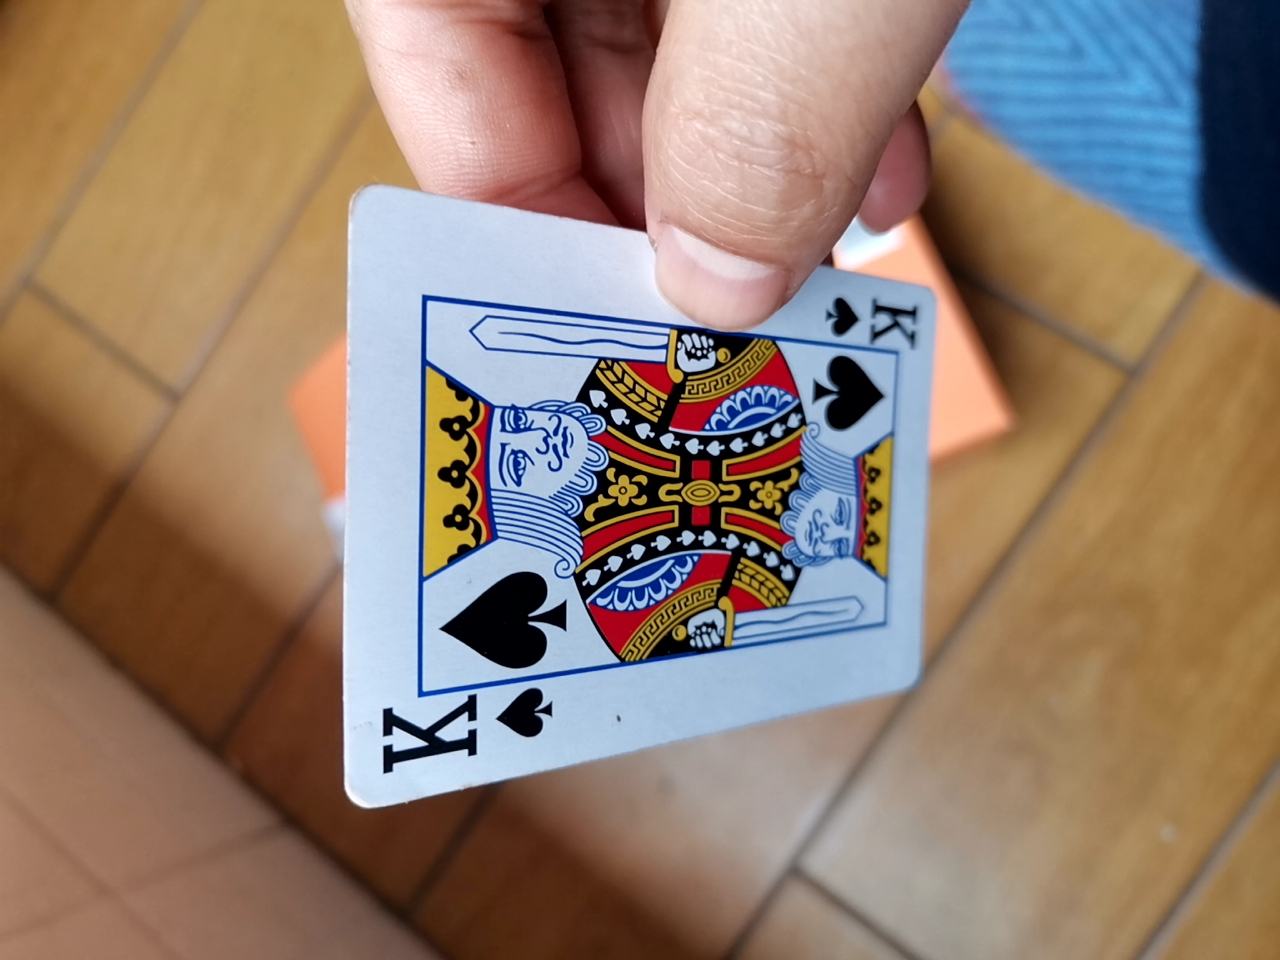ht k: (312, 185, 952, 819)
